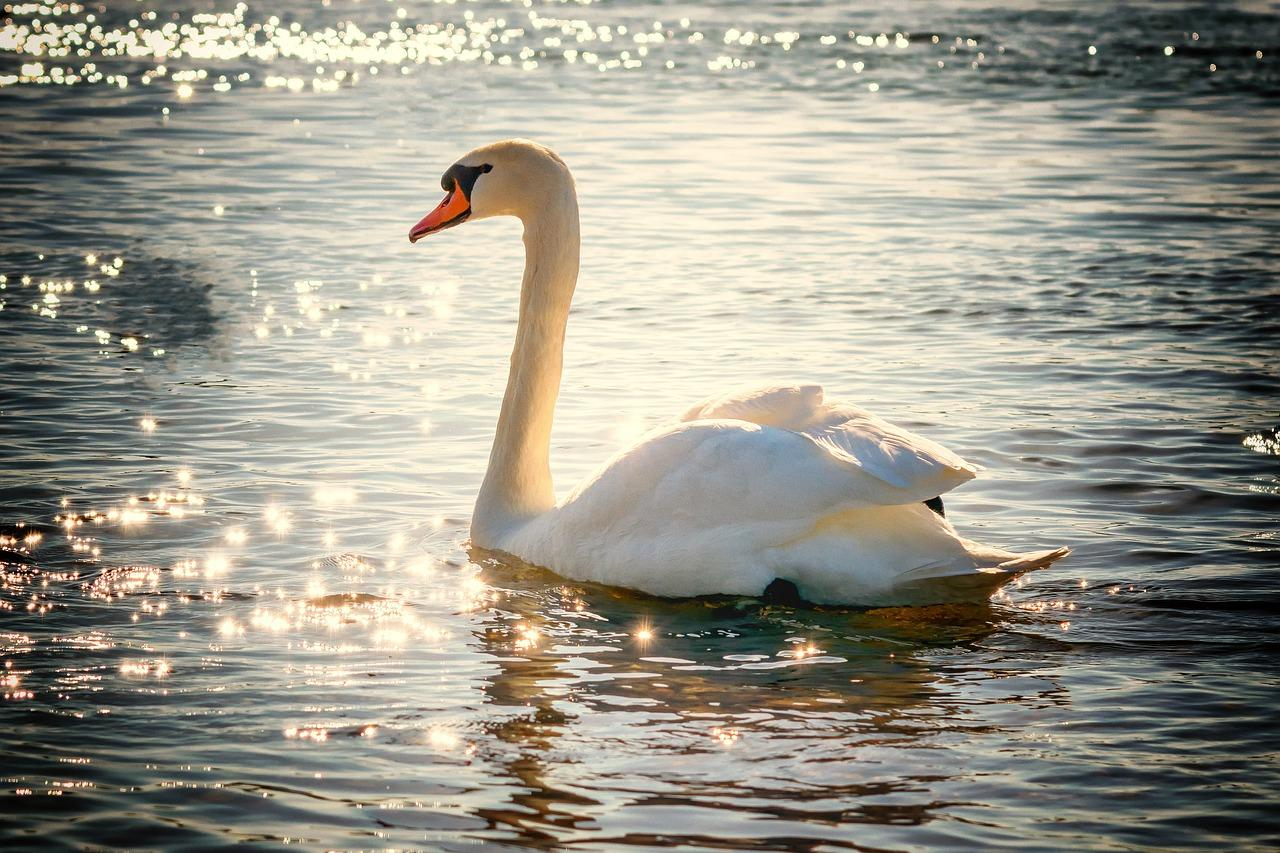bird: (409, 140, 1065, 605)
